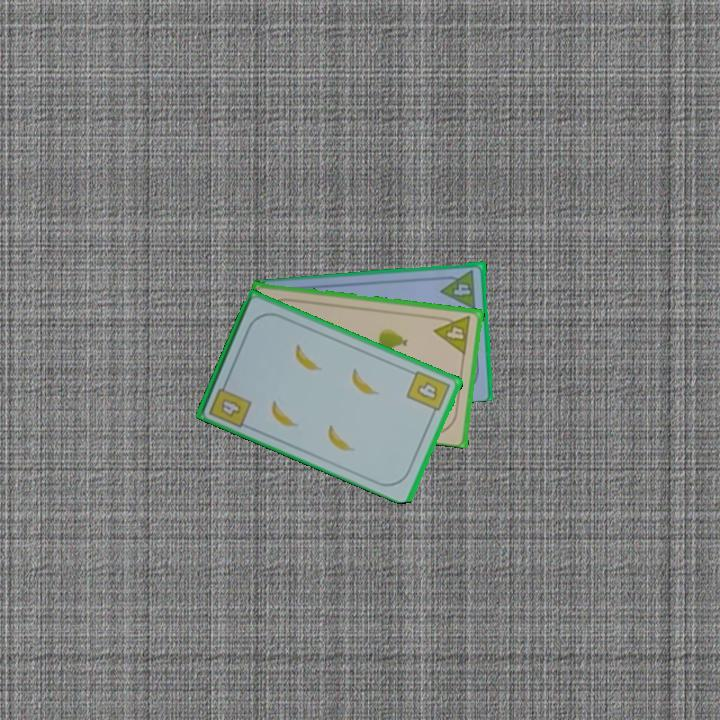4b: (403, 367, 454, 419), (206, 376, 254, 430)
4p: (437, 266, 479, 311), (432, 312, 474, 356)
